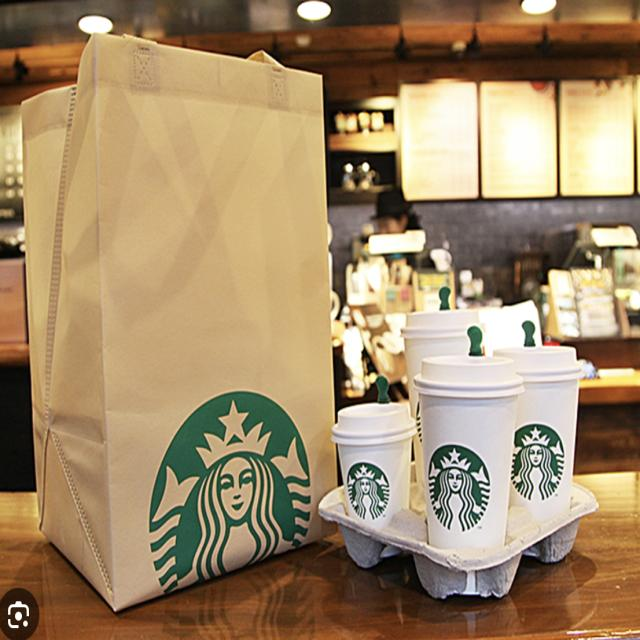biodegradable: (12, 28, 359, 612), (315, 475, 613, 608)
